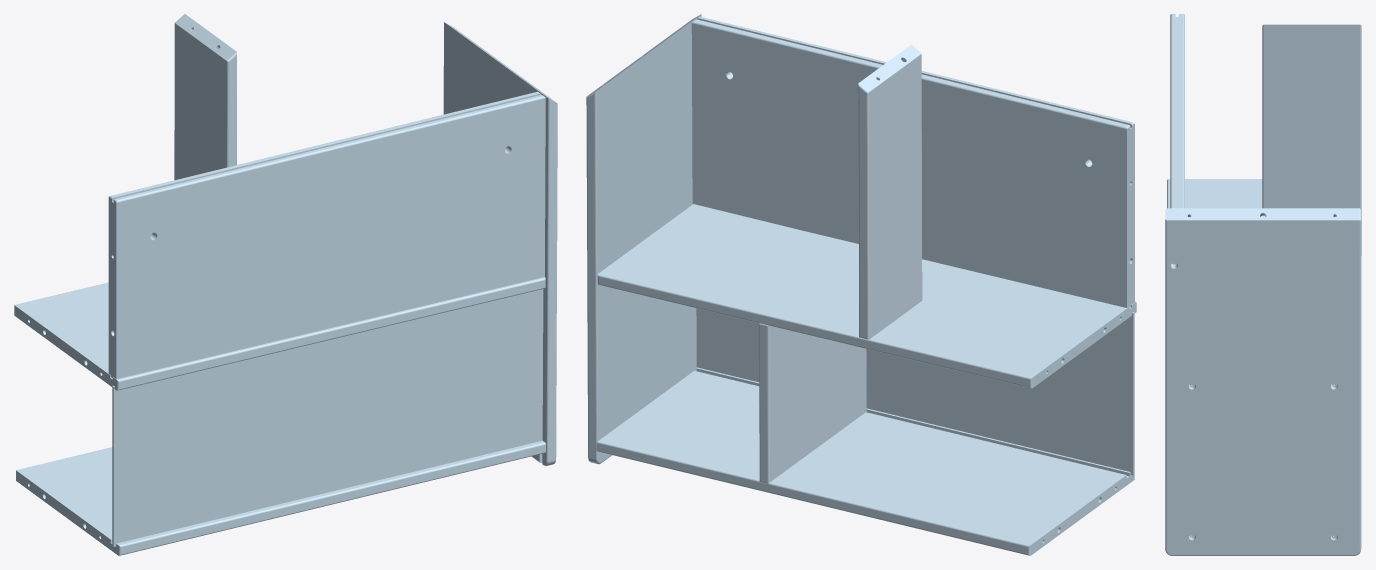
File: step4.glb
3 renders of one model, left to right at view 1: azimuth 30°, elevation 25°; view 2: azimuth 150°, elevation 25°; view 3: azimuth 270°, elevation 25°, orthographic. The views are drawn at different scales.
Visible parts, largest first — view 1: 9; view 2: 9; view 3: 9.
Part boxes in pixels (bbox=[...]): 9: bbox=[14, 14, 557, 555]; 9: bbox=[586, 14, 1136, 555]; 9: bbox=[1165, 14, 1361, 555].
Size of what is drawn, in the model's own units: 3.16 by 3.03 by 1.31.
